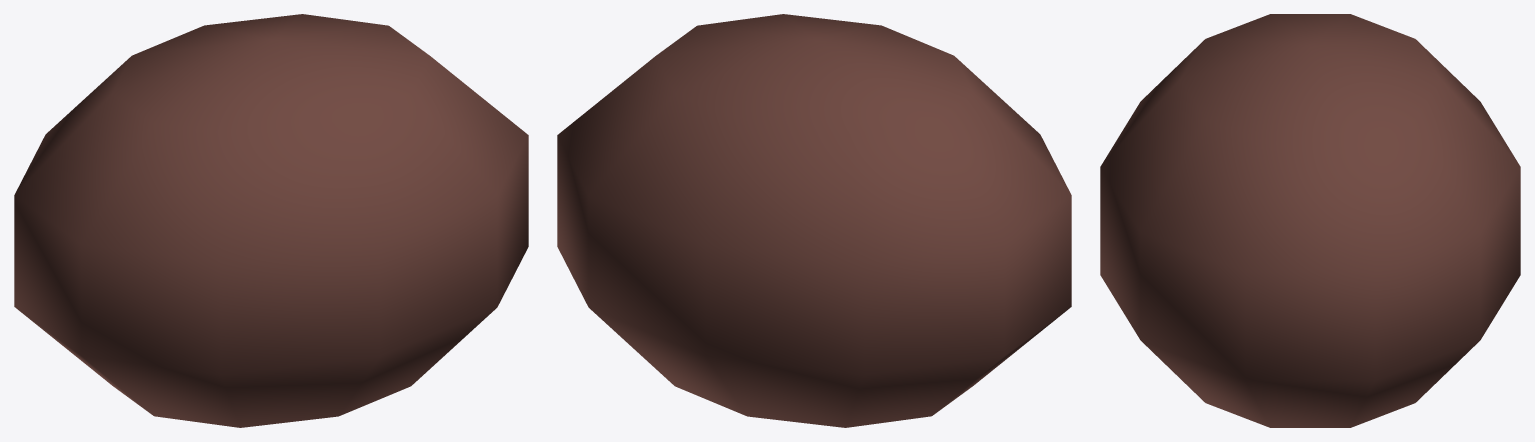
File: rock_chilli.glb
3 renders of one model, left to right at view 1: azimuth 30°, elevation 25°; view 2: azimuth 150°, elevation 25°; view 3: azimuth 270°, elevation 25°, orthographic. The views are drawn at different scales.
Parts seen in each view (by area): view 1: rock_chilli; view 2: rock_chilli; view 3: rock_chilli.
Part boxes in pixels (bbox=[...]): rock_chilli: bbox=[14, 14, 528, 427]; rock_chilli: bbox=[557, 14, 1071, 427]; rock_chilli: bbox=[1100, 14, 1520, 427].
Size of the model in its own units: 1.81 by 1.4 by 1.52.
